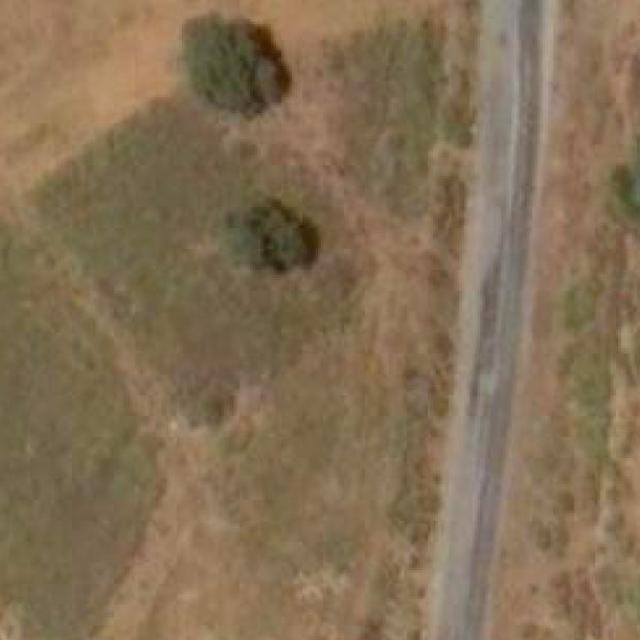Tree: (179, 8, 292, 116), (226, 194, 315, 273)
